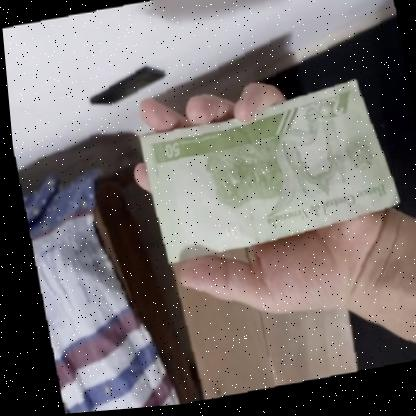fifty-back-vef: (131, 81, 401, 269)
